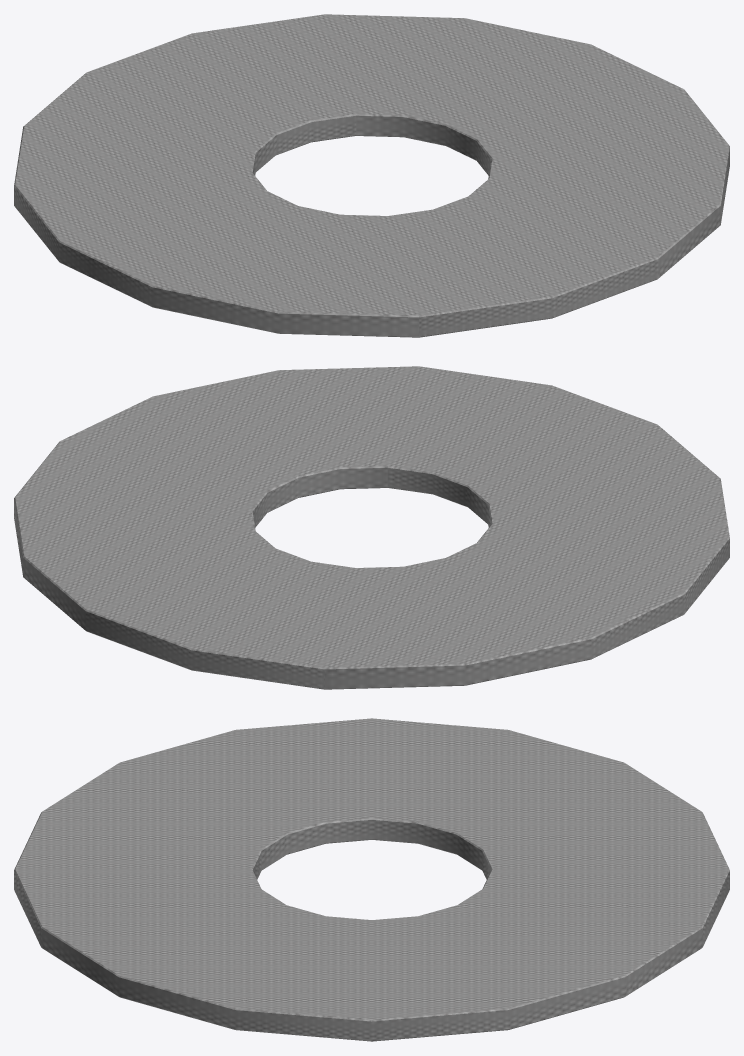
Rendered from stage.fbx.
The picture shows the model from 3 angles, top to bottom: view 1: azimuth 30°, elevation 25°; view 2: azimuth 150°, elevation 25°; view 3: azimuth 270°, elevation 25°; orthographic projection.
Visible parts, largest first — view 1: polySurface3; view 2: polySurface3; view 3: polySurface3.
Part boxes in pixels (bbox=[...]): polySurface3: bbox=[14, 14, 729, 337]; polySurface3: bbox=[14, 366, 729, 689]; polySurface3: bbox=[14, 718, 729, 1041].
Bounding box in the file's own units: 30 × 1 × 30.
Materials: 1 (1 with a texture image).
